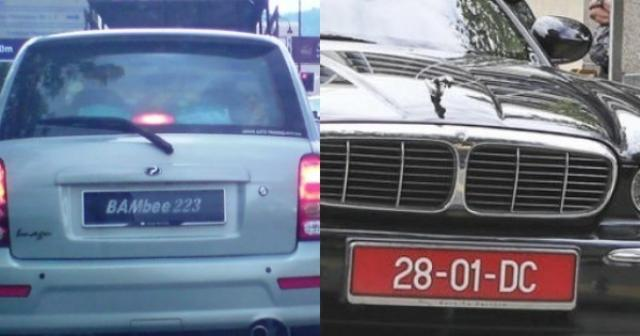License_Plate: (346, 241, 582, 313), (83, 188, 229, 228)
car: (1, 25, 319, 336)
